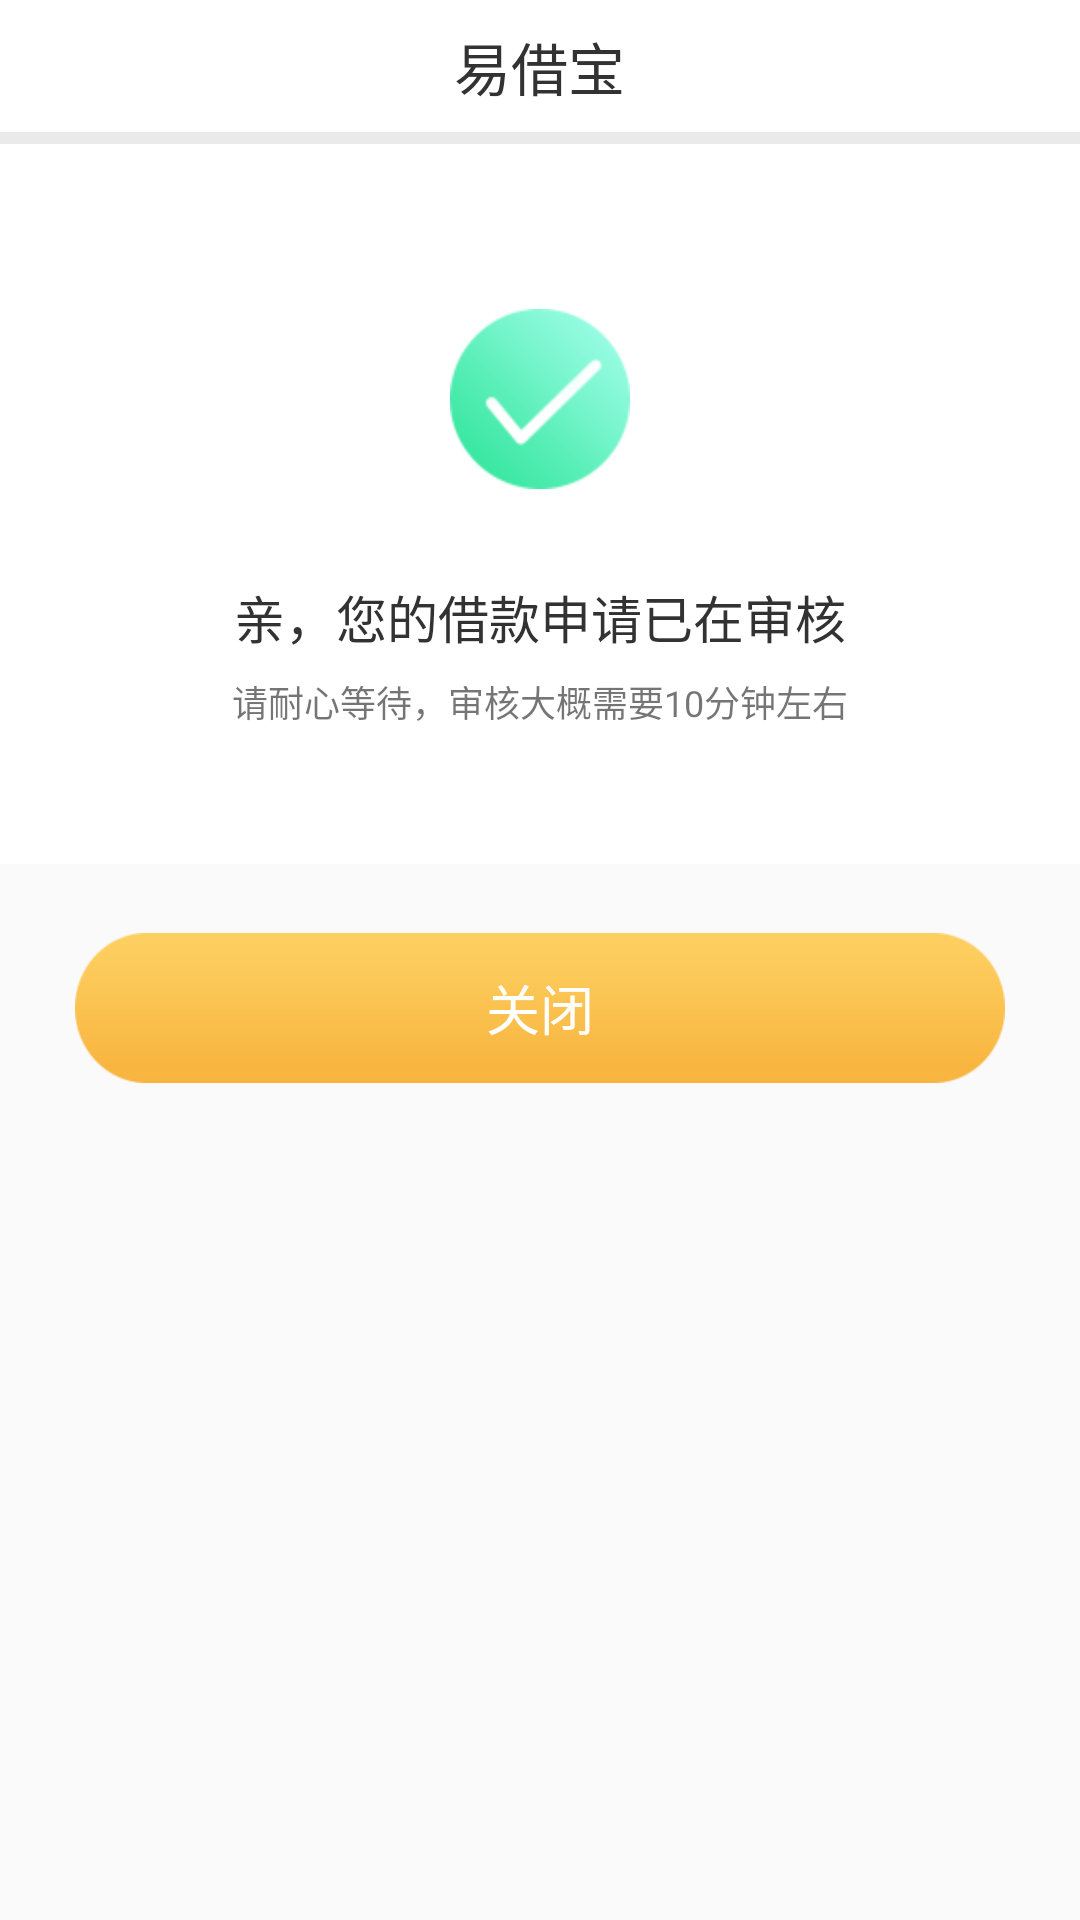

Screen size 1080px×1920px. Icon name, then its box in pixels as box=[x1, y1, x2, y2]:
applysuccess item: box=[450, 309, 630, 489]
